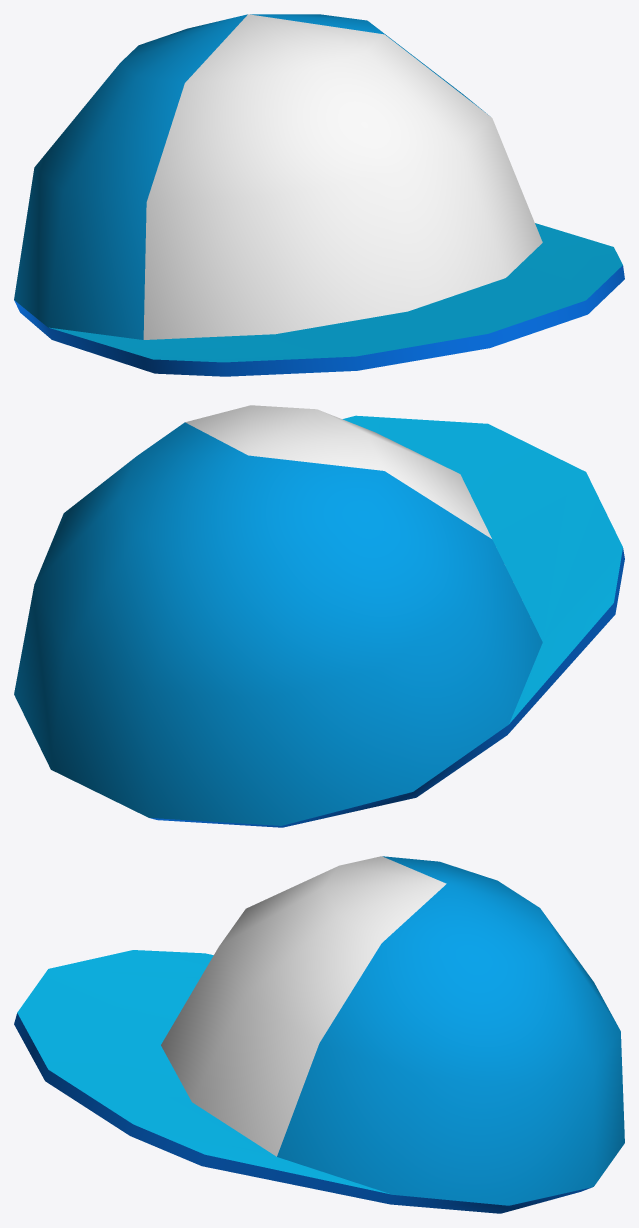
File: StickMan_Player_Cap.fbx
3 views of the same model, one above another, from view 1: azimuth 30°, elevation 25°; view 2: azimuth 150°, elevation 25°; view 3: azimuth 270°, elevation 25° (orthographic). The views are drawn at different scales.
Visible parts, largest first — view 1: Sphere; view 2: Sphere; view 3: Sphere.
Part boxes in pixels (left/top/right/bottom): Sphere: left=14, top=14, right=624, bottom=376; Sphere: left=14, top=405, right=624, bottom=827; Sphere: left=14, top=856, right=624, bottom=1213.
Bounding box in the file's own units: 0.3086 × 0.1904 × 0.3956.
